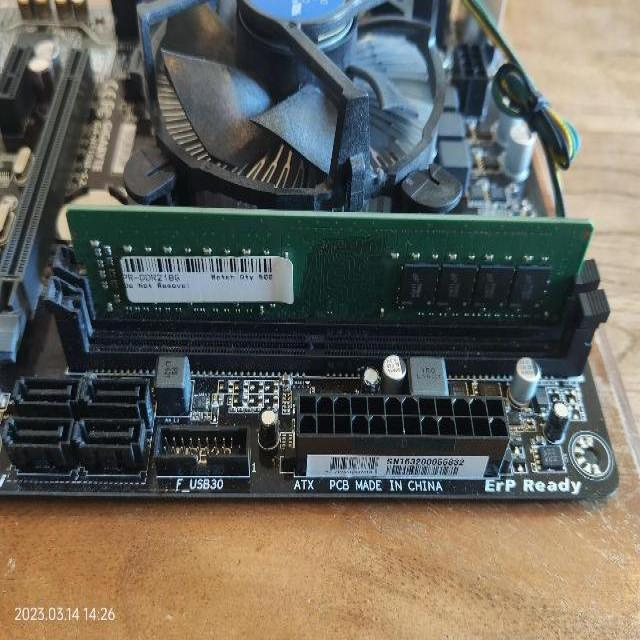RAM: (64, 203, 596, 320)
